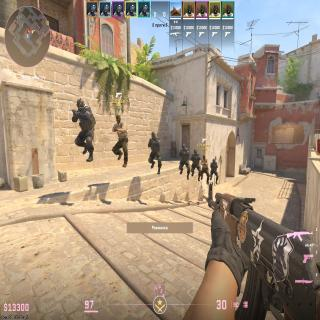CT-Body: (72, 98, 95, 162), (148, 131, 161, 172), (178, 144, 190, 176), (191, 148, 201, 180), (210, 158, 218, 184)
CT-Head: (76, 99, 85, 112), (151, 131, 156, 141), (182, 144, 186, 151), (194, 149, 197, 156), (212, 158, 215, 165)
T-Body: (112, 114, 128, 168), (200, 154, 208, 183)
T-Head: (162, 115, 226, 143), (116, 115, 121, 124), (203, 155, 205, 160)
